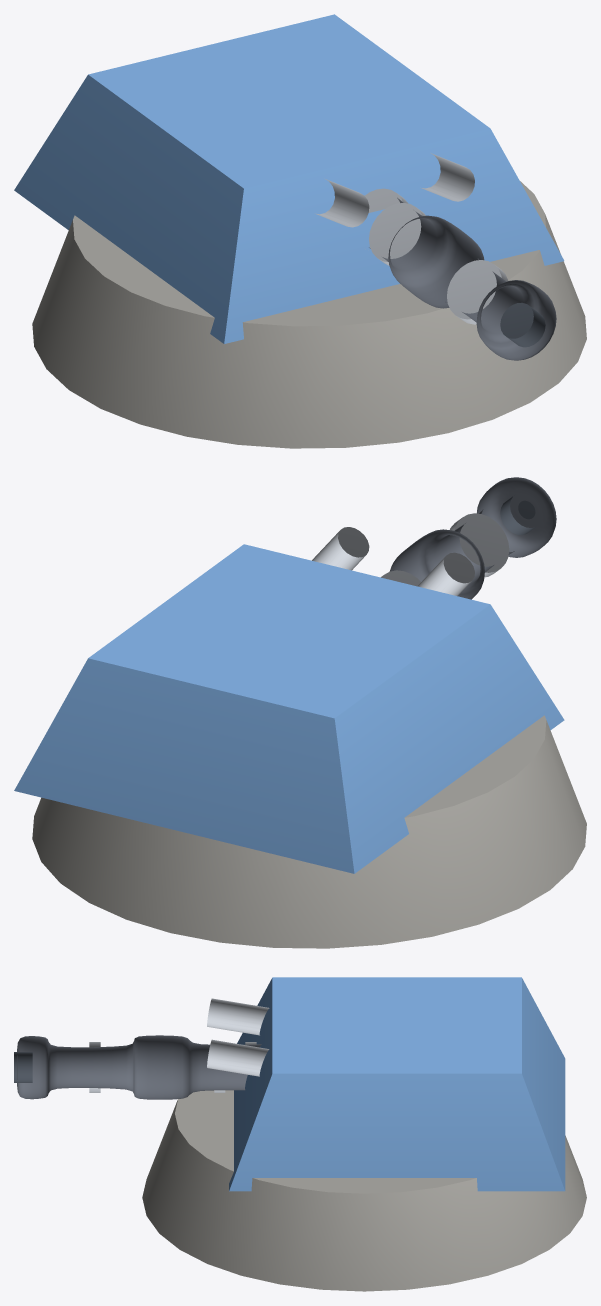
The model's file is gtgcan.glb.
The picture shows the model from 3 angles, top to bottom: view 1: azimuth 30°, elevation 25°; view 2: azimuth 150°, elevation 25°; view 3: azimuth 270°, elevation 25°; orthographic projection. The views are drawn at different scales.
Visible parts, largest first — view 1: Turret, Hull, Barrel; view 2: Turret, Hull, Barrel; view 3: Turret, Hull, Barrel.
Part boxes in pixels (x1,y1,x2,y2): Turret: (14, 14, 545, 343); Hull: (32, 214, 586, 448); Barrel: (224, 128, 564, 360); Turret: (14, 534, 564, 873); Hull: (32, 720, 586, 948); Barrel: (312, 477, 556, 599); Turret: (207, 977, 565, 1193); Hull: (142, 1099, 586, 1291); Barrel: (14, 978, 272, 1190).
Size of the model in its own units: 2.95 by 1.3 by 3.8.
